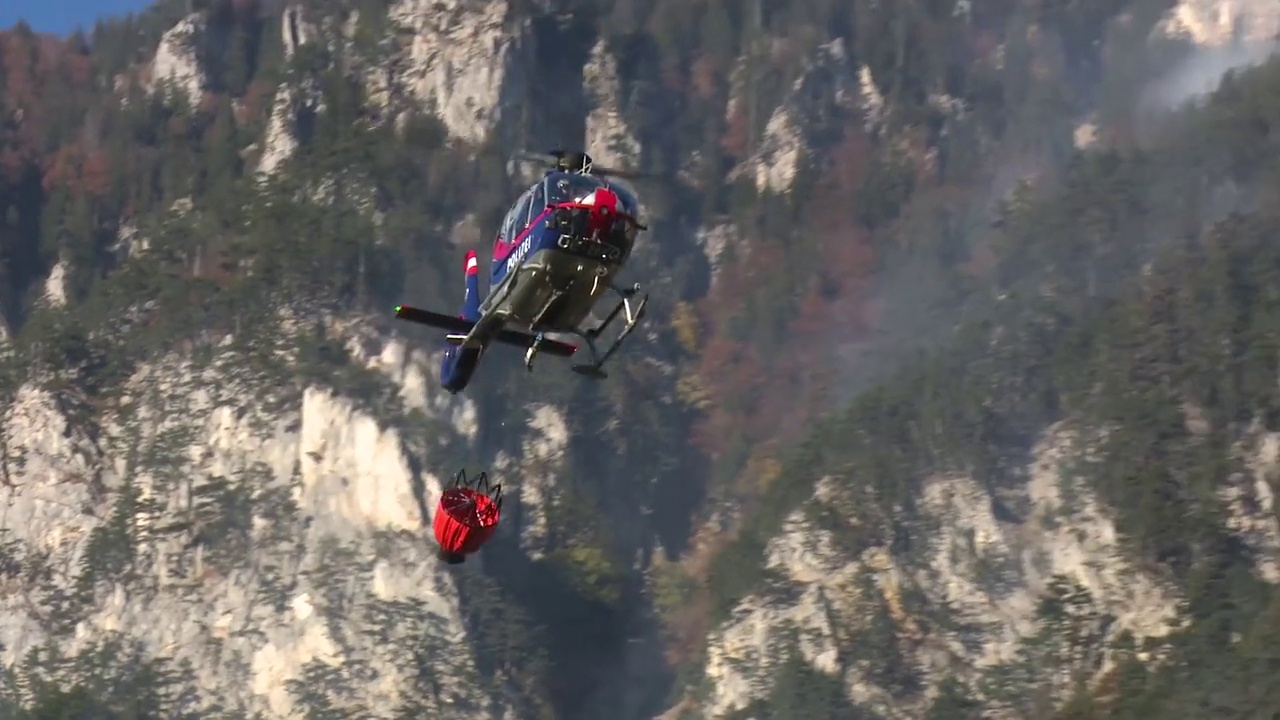heli: (393, 147, 650, 394)
